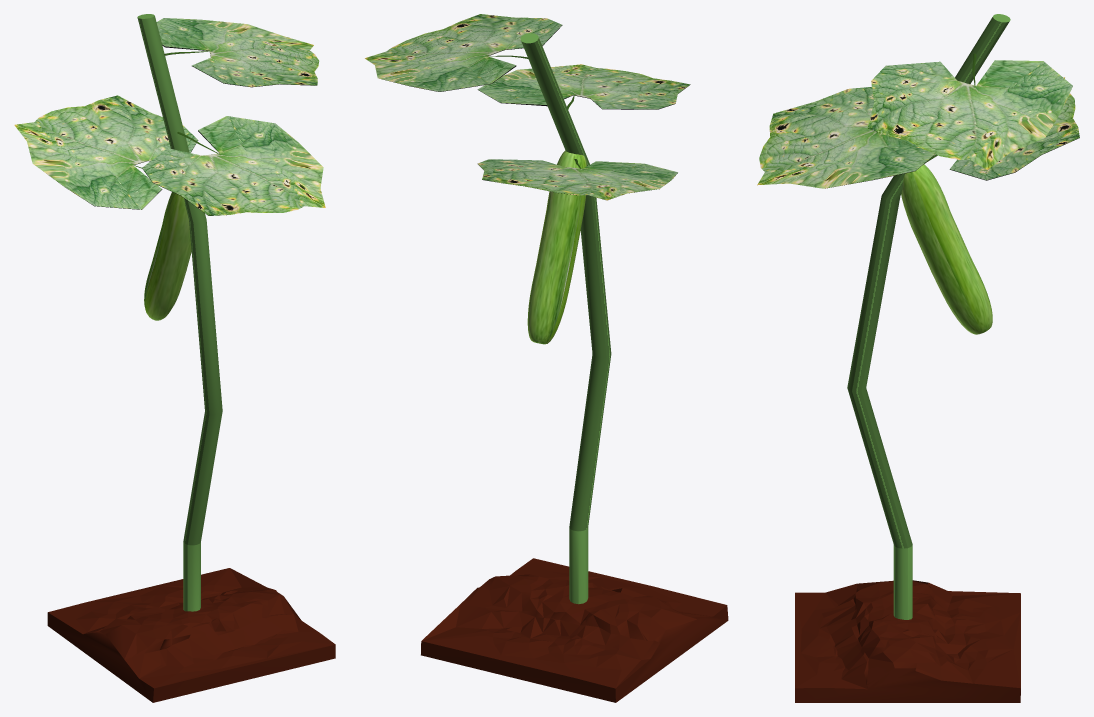
Rendered from bedeng_timun_2.obj.
3 renders of one model, left to right at view 1: azimuth 30°, elevation 25°; view 2: azimuth 150°, elevation 25°; view 3: azimuth 270°, elevation 25°, orthographic. The views are drawn at different scales.
Parts seen in each view (by area): view 1: batang_Cylinder, PP_Meadow_Path_05_Scene.1042, Cylinder.002_Cylinder.003; view 2: batang_Cylinder, PP_Meadow_Path_05_Scene.1042, Cylinder.002_Cylinder.003; view 3: batang_Cylinder, PP_Meadow_Path_05_Scene.1042, Cylinder.002_Cylinder.003.
Part boxes in pixels (left/top/right/bottom): batang_Cylinder: left=14, top=14, right=325, bottom=611; PP_Meadow_Path_05_Scene.1042: left=47, top=568, right=335, bottom=702; Cylinder.002_Cylinder.003: left=144, top=192, right=191, bottom=320; batang_Cylinder: left=365, top=14, right=690, bottom=604; PP_Meadow_Path_05_Scene.1042: left=421, top=558, right=728, bottom=702; Cylinder.002_Cylinder.003: left=527, top=150, right=586, bottom=344; batang_Cylinder: left=757, top=14, right=1079, bottom=619; PP_Meadow_Path_05_Scene.1042: left=795, top=580, right=1020, bottom=702; Cylinder.002_Cylinder.003: left=901, top=164, right=992, bottom=334.
Bounding box in the file's own units: 1.53 × 3.11 × 1.43.
